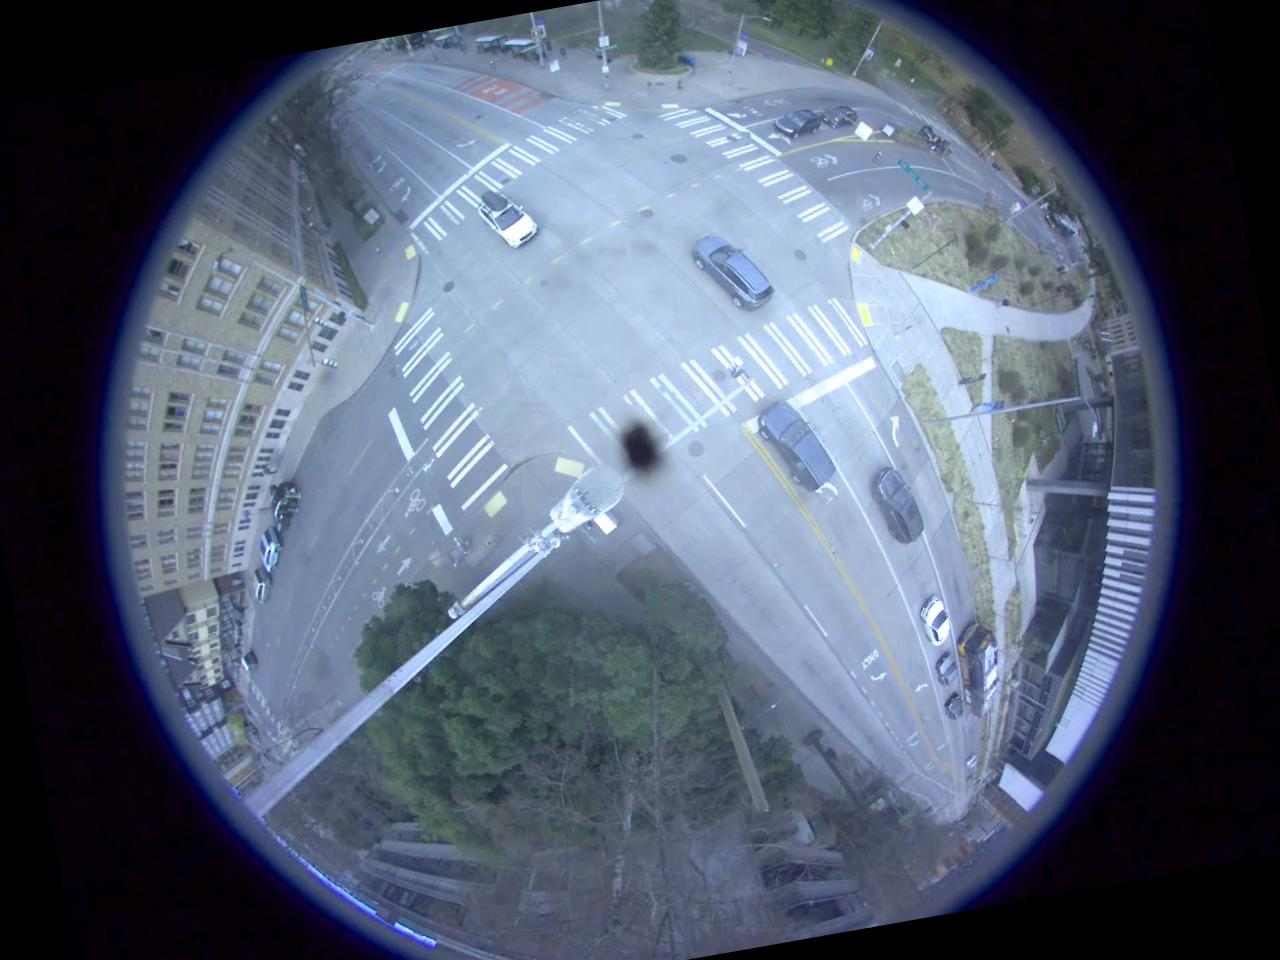bus: (954, 620, 1006, 717)
car: (752, 392, 838, 504), (689, 225, 776, 319), (872, 462, 928, 556), (476, 184, 542, 254), (266, 477, 310, 536), (913, 594, 953, 650), (773, 107, 824, 139), (824, 96, 863, 132), (930, 648, 959, 687), (259, 528, 283, 574), (248, 566, 274, 604), (938, 690, 966, 720)
person: (989, 294, 1019, 314)
